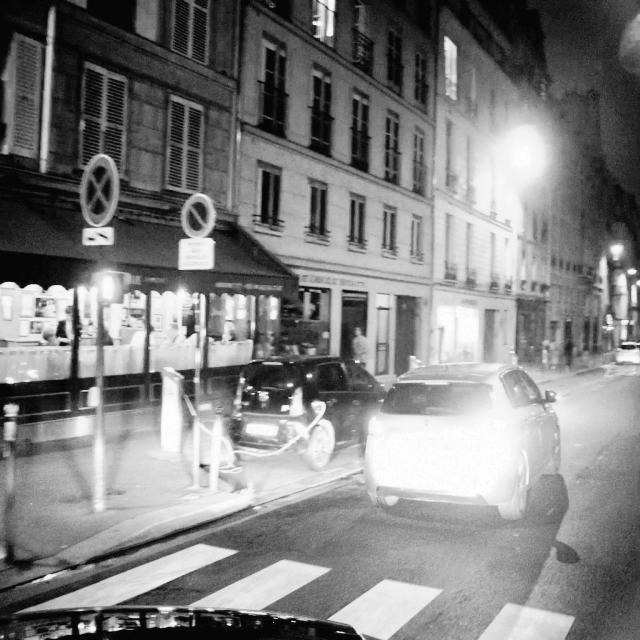Car: (358, 361, 562, 516), (233, 356, 387, 466)
Sign: (79, 154, 121, 227), (180, 193, 214, 238), (178, 238, 214, 270), (82, 227, 114, 246)
